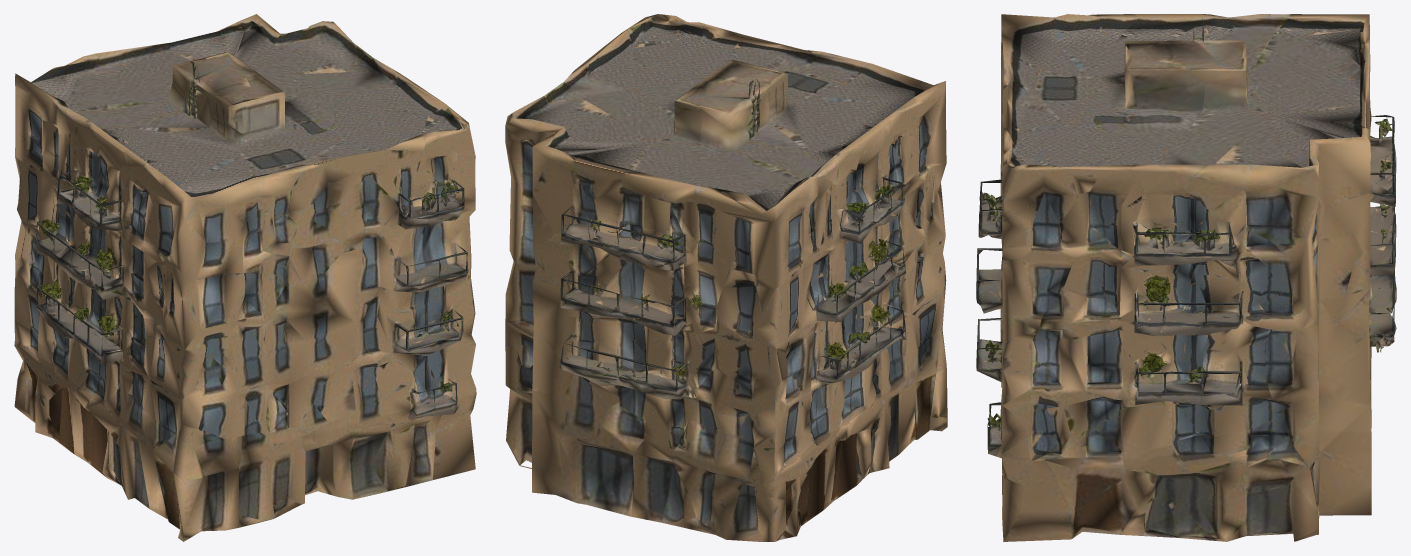
File: resblock_lod1.glb
3 views of the same model, side by side, from view 1: azimuth 30°, elevation 25°; view 2: azimuth 150°, elevation 25°; view 3: azimuth 270°, elevation 25° (orthographic). The views are drawn at different scales.
Visible parts, largest first — view 1: mesh_node; view 2: mesh_node; view 3: mesh_node.
Boxes of the visible parts, x1,y1,x2,y2 form: mesh_node: (14, 14, 476, 541); mesh_node: (505, 14, 947, 541); mesh_node: (976, 14, 1396, 541).
Bounding box in the file's own units: 1.72 × 1.9 × 1.72.
1 material, 1 textured.
